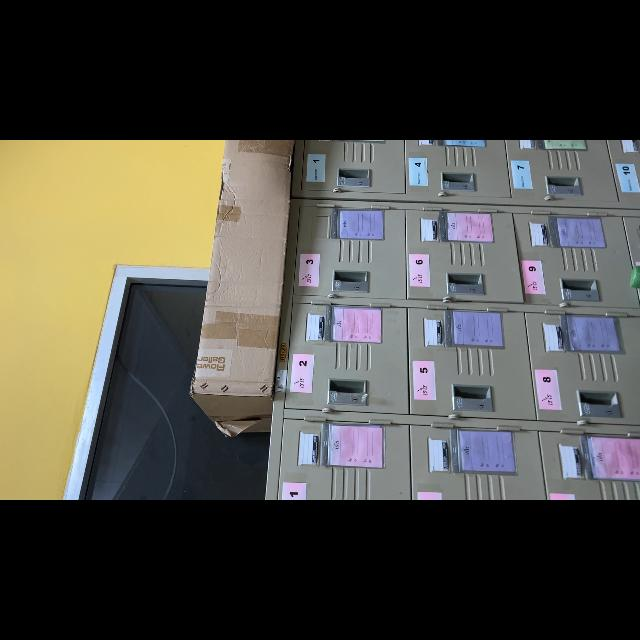cardboard_box: (182, 140, 298, 448)
